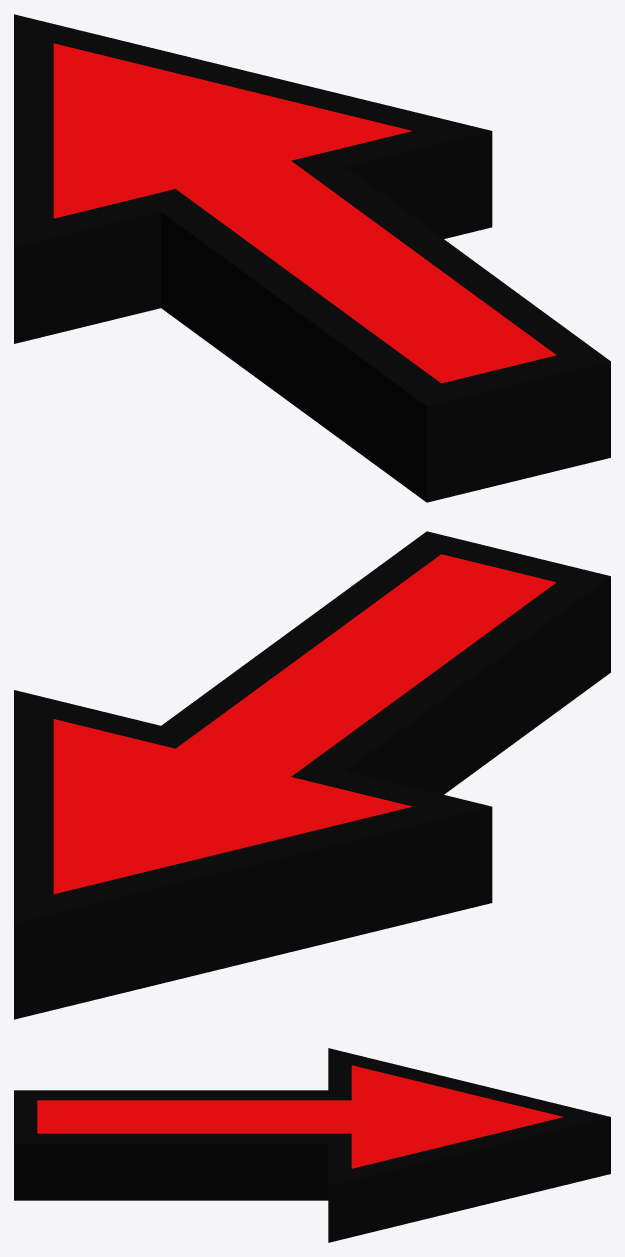
The model's file is Direction Arrow.fbx.
The picture shows the model from 3 angles, top to bottom: view 1: azimuth 30°, elevation 25°; view 2: azimuth 150°, elevation 25°; view 3: azimuth 270°, elevation 25°; orthographic projection. The views are drawn at different scales.
Visible parts, largest first — view 1: Arrow; view 2: Arrow; view 3: Arrow.
Boxes of the visible parts, left/top/right/bottom form: Arrow: left=14, top=14, right=610, bottom=502; Arrow: left=14, top=531, right=610, bottom=1019; Arrow: left=14, top=1048, right=610, bottom=1242.
Bounding box in the file's own units: 5.2 × 1 × 9.5.
